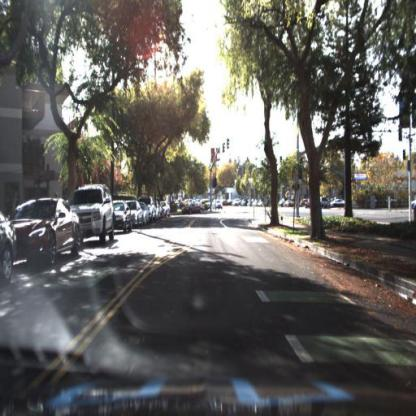car: (16, 192, 82, 269), (83, 179, 116, 246), (0, 203, 18, 289), (112, 196, 133, 236), (130, 198, 142, 230), (141, 198, 149, 224), (201, 198, 213, 211), (218, 196, 230, 208), (216, 200, 223, 212)
